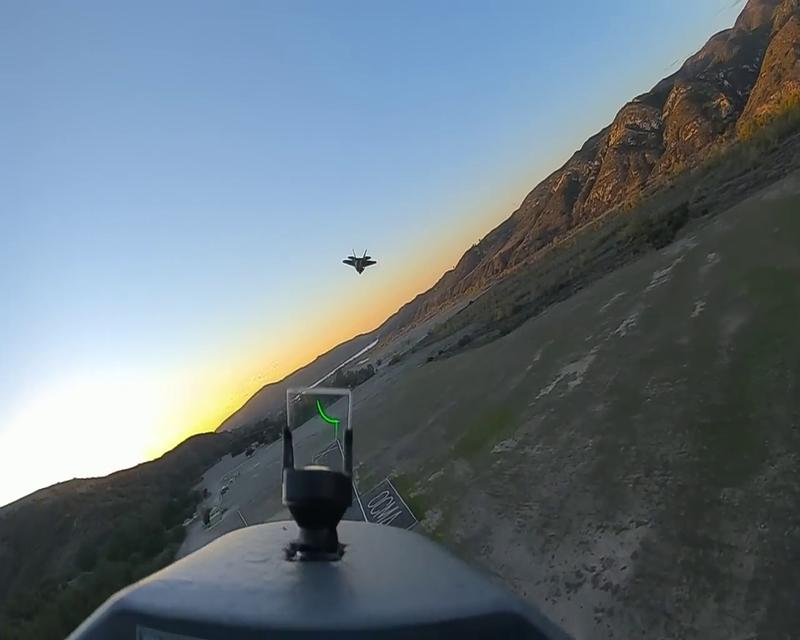UAV: (342, 248, 377, 274)
